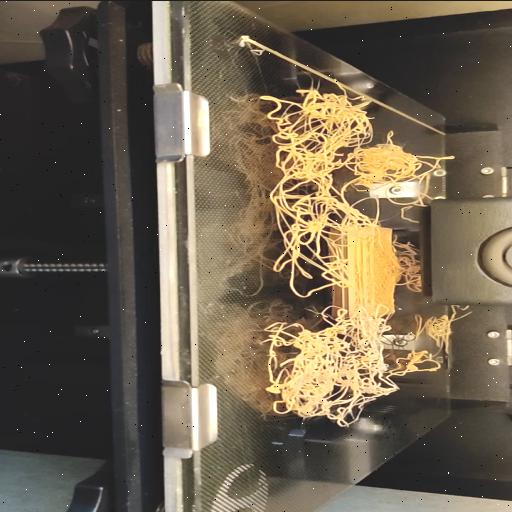spaghetti: (260, 86, 426, 428), (426, 305, 474, 372), (423, 150, 455, 168)
